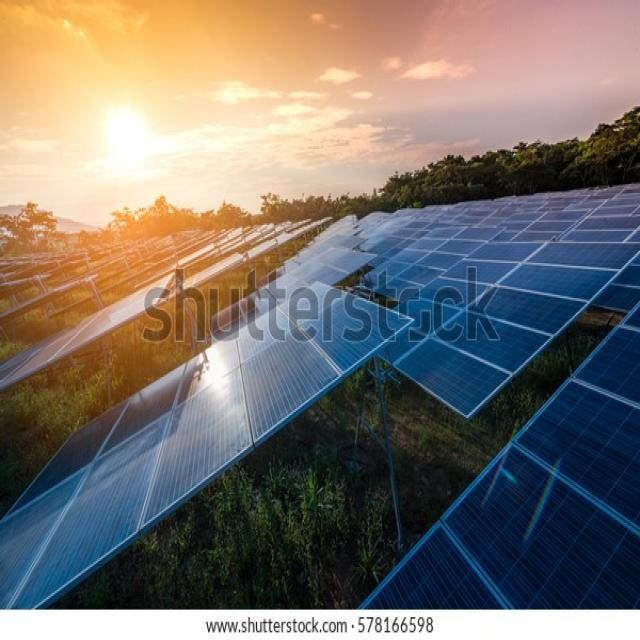clean-solar-panel: (0, 186, 640, 609), (364, 304, 640, 609)
